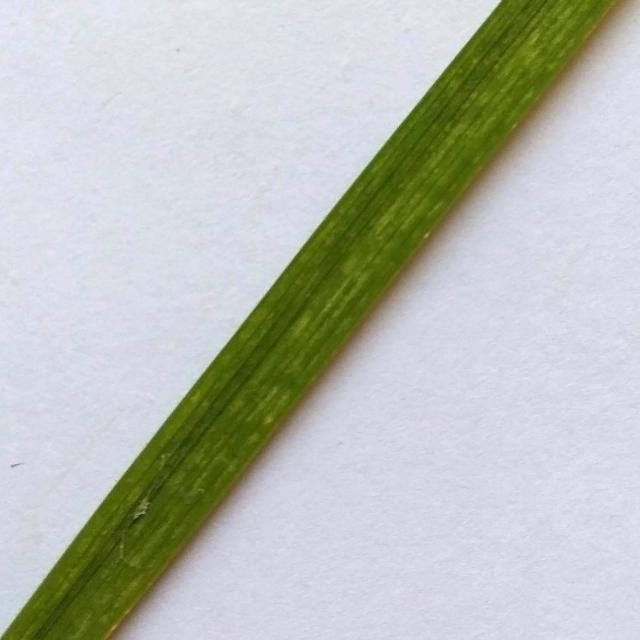Rice_Healthy: (0, 0, 614, 640)
